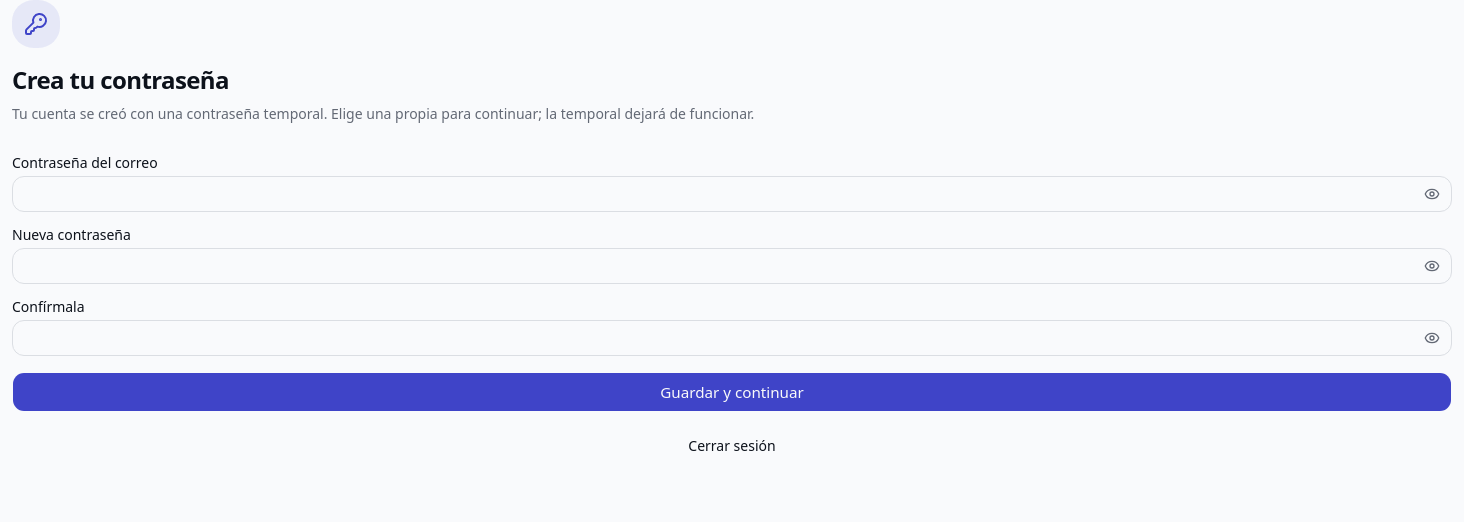
it: having to change the emailed password › does not let the same password through
Type "Una-Clave-Propia-Y-Larga-7!" into the password field labelled "Contraseña del correo" at (732, 194), box [12,176,1452,212]
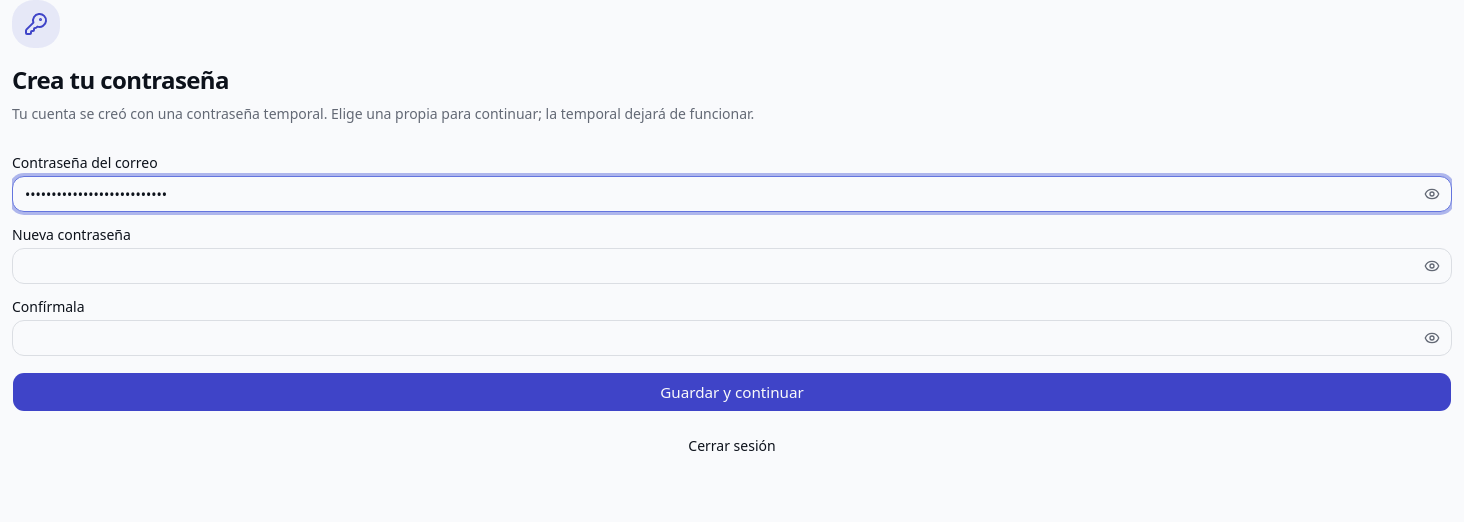
Type "Una-Clave-Propia-Y-Larga-7!" into the password field labelled "Nueva contraseña" at (732, 266), box [12,248,1452,284]
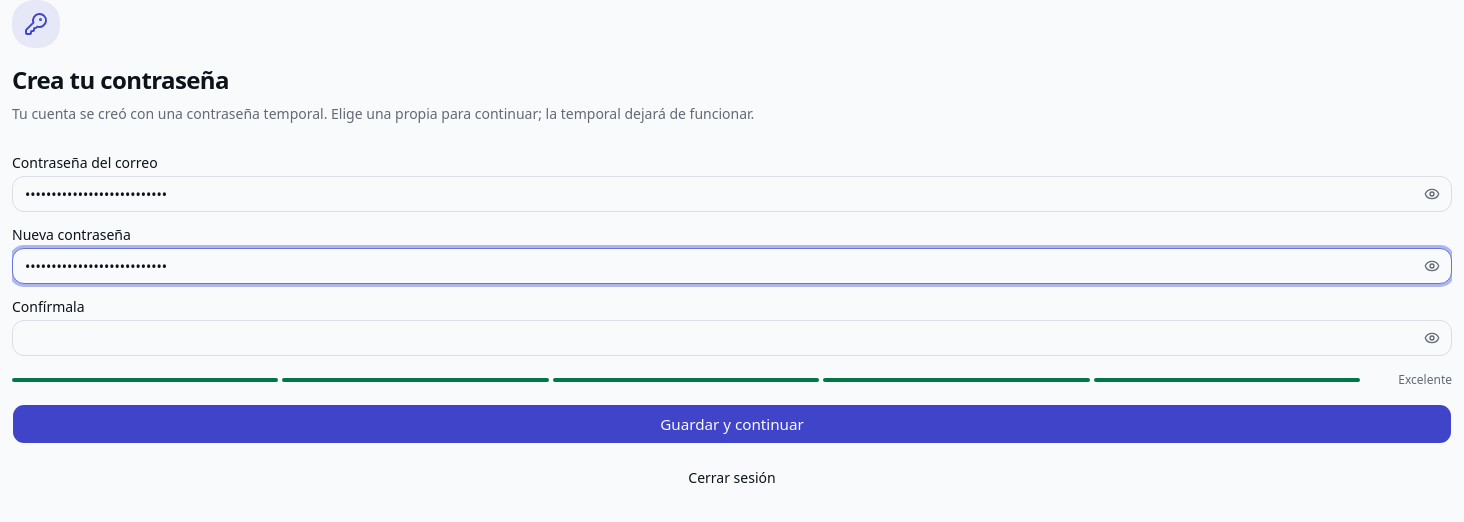
Type "Una-Clave-Propia-Y-Larga-7!" into the password field labelled "Confírmala" at (732, 338), box [12,320,1452,356]
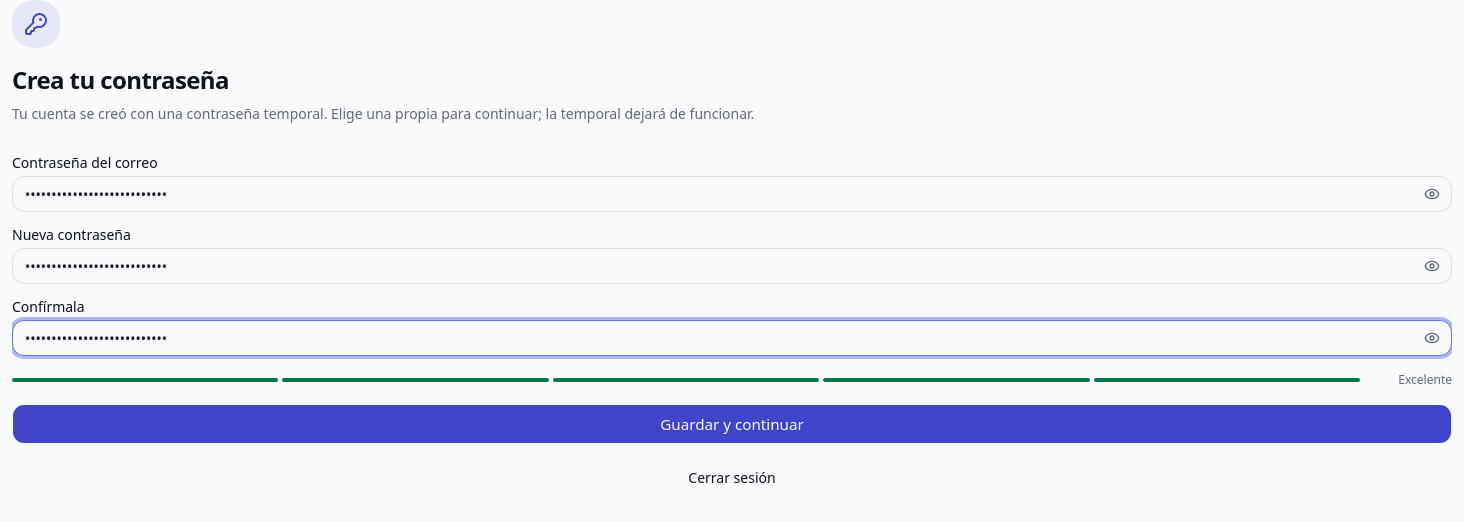
Click the button "Guardar y continuar" at (732, 424), box [12,404,1452,444]
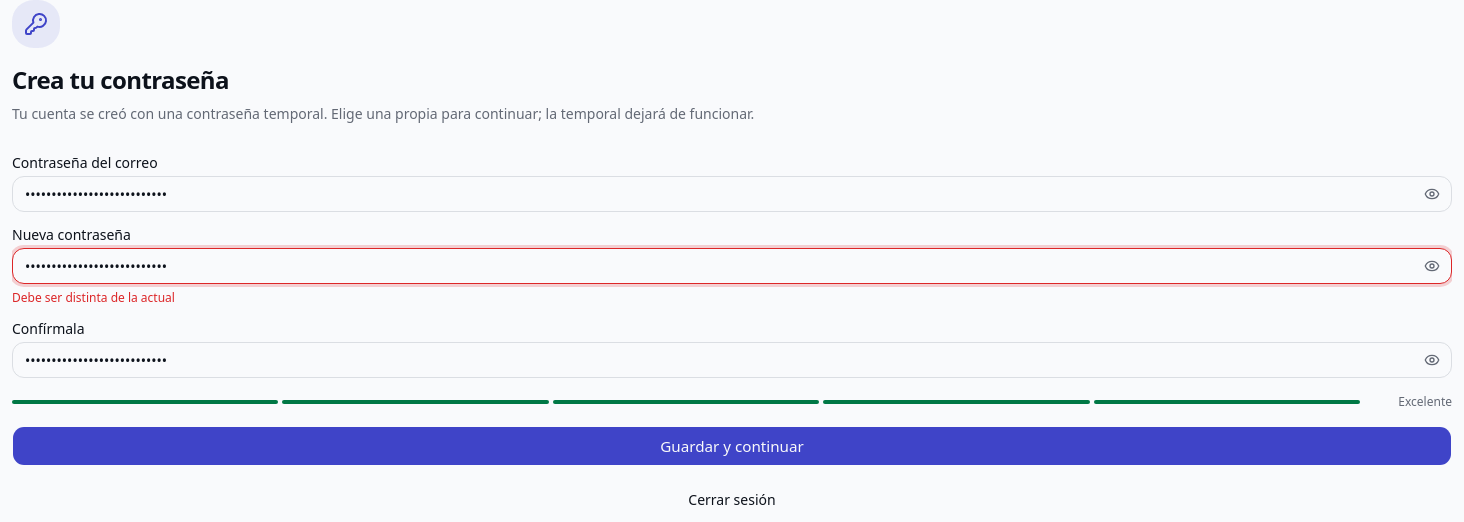
Result: the text "Debe ser distinta de la actual" is shown at [12,289,175,306]
